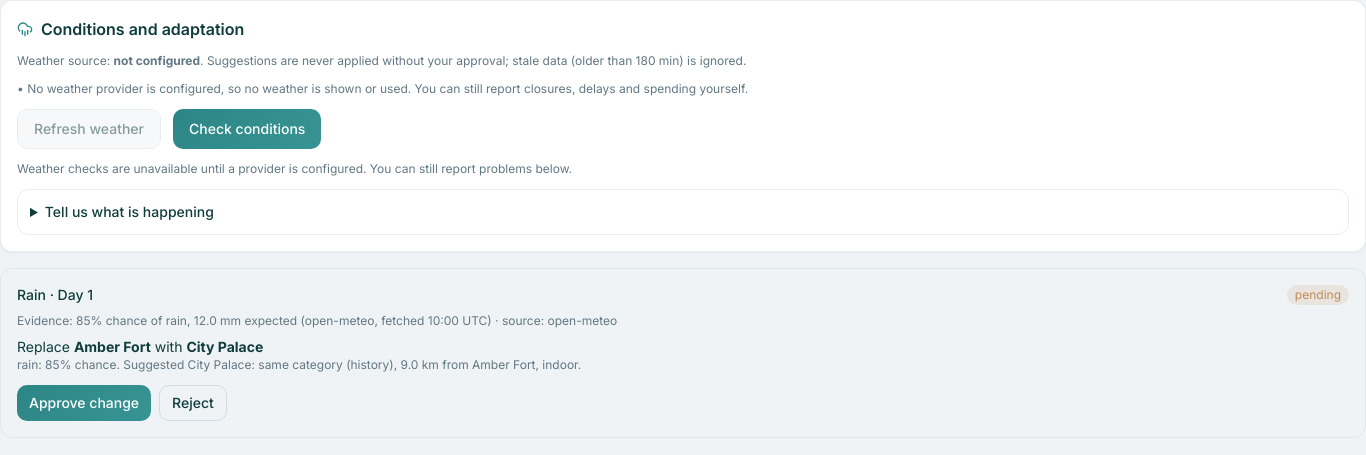
Test: ContextPanel › rejects a proposal without touching the itinerary
Click the button "Reject" at (193, 403), box [159,385,227,421]
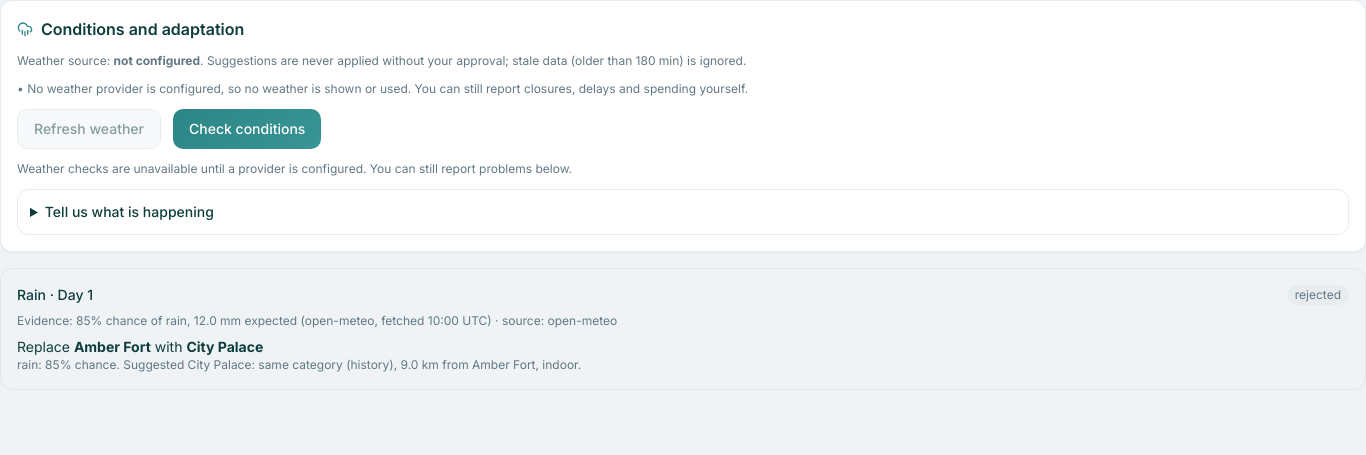
Expected: the text "rejected" is shown, [1287,285,1349,305]
